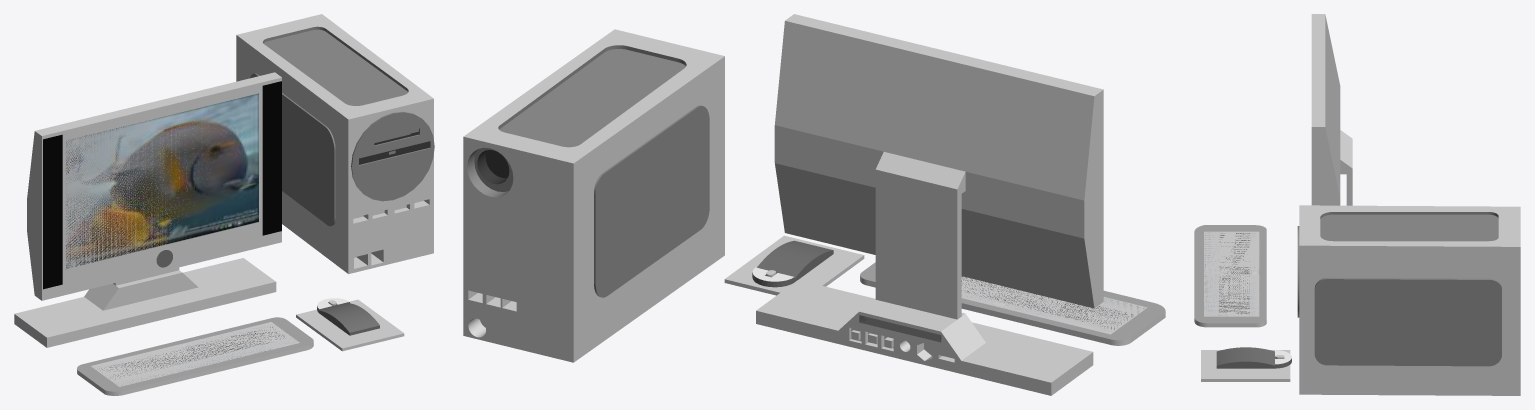
File: computer1.obj
3 views of the same model, side by side, from view 1: azimuth 30°, elevation 25°; view 2: azimuth 150°, elevation 25°; view 3: azimuth 270°, elevation 25° (orthographic). The views are drawn at different scales.
Parts seen in each view (by area): view 1: Mesh11 Model, Mesh12 Model, Mesh16 Model, Mesh13 Model, Mesh14 Model, Mesh10 ske35_1 Model, Mesh15 Model; view 2: Mesh11 Model, Mesh12 Model, Mesh13 Model, Mesh14 Model, Mesh10 ske35_1 Model, Mesh15 Model; view 3: Mesh12 Model, Mesh13 Model, Mesh11 Model, Mesh14 Model, Mesh10 ske35_1 Model, Mesh15 Model.
Part boxes in pixels (x1,y1,x2,y2): Mesh11 Model: (14,72,281,347); Mesh12 Model: (236,14,434,273); Mesh16 Model: (65,93,258,268); Mesh13 Model: (77,317,313,395); Mesh14 Model: (296,299,404,351); Mesh10 ske35_1 Model: (317,298,379,335); Mesh15 Model: (93,324,296,385); Mesh11 Model: (756,14,1103,395); Mesh12 Model: (463,29,724,362); Mesh13 Model: (860,262,1165,345); Mesh14 Model: (724,235,864,295); Mesh10 ske35_1 Model: (752,240,833,287); Mesh15 Model: (961,276,1145,333); Mesh12 Model: (1297,205,1520,395); Mesh13 Model: (1194,225,1266,327); Mesh11 Model: (1311,14,1352,205); Mesh14 Model: (1201,350,1290,381); Mesh10 ske35_1 Model: (1216,347,1291,368); Mesh15 Model: (1204,232,1259,316).
Bounding box in the file's own units: 70.81 × 40.25 × 53.04.
Materials: 11 (2 with a texture image).
